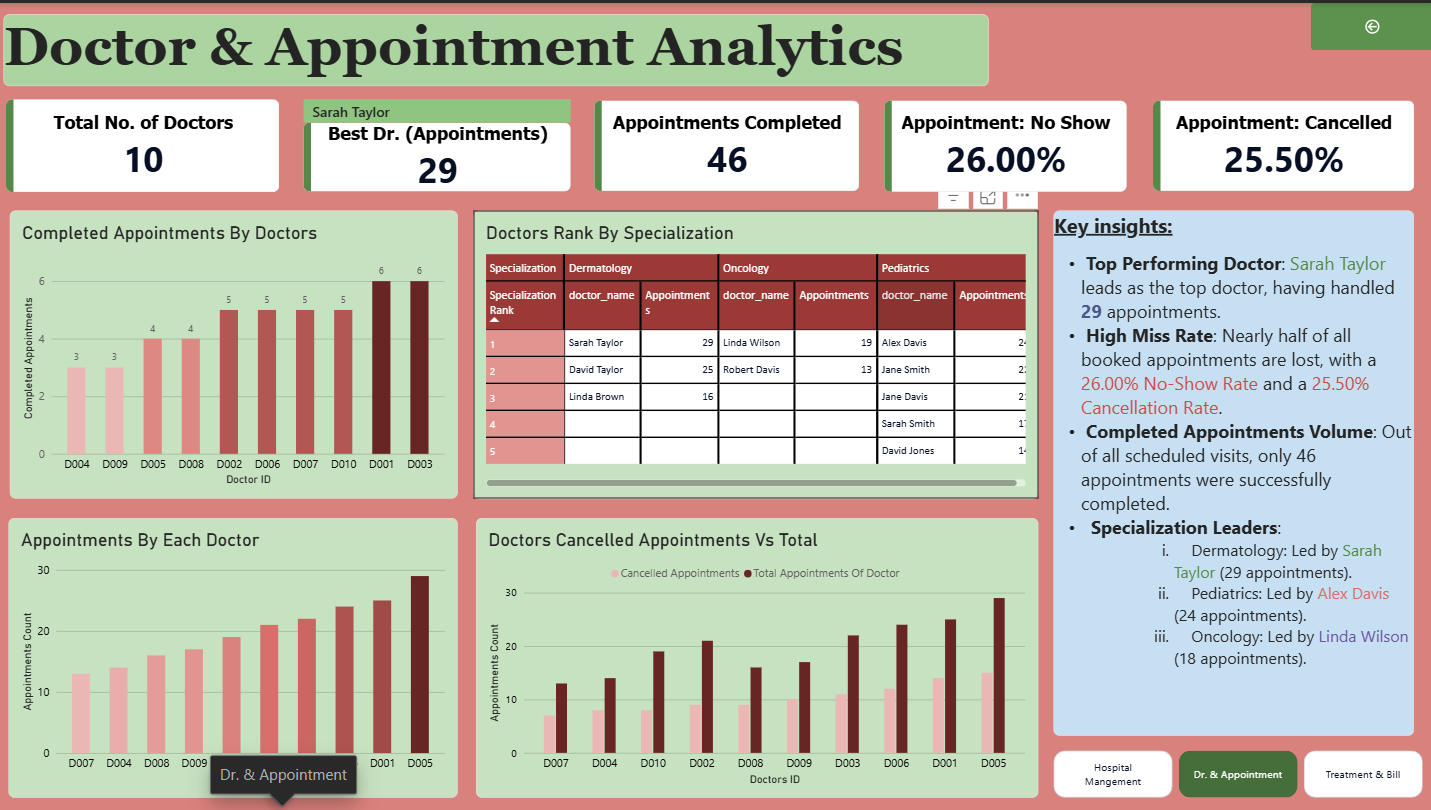

Layout of this report page (visuals, bound fields, positions):
{"tool":"powerbi","page":{"name":"Dr. & Appointment","canvas":[1920,1080],"ordinal":1},"visuals":[{"type":"textbox","box":[9.2,14.7,1316,95.7],"z":0},{"type":"group","id":"g1","title":"Group 1","box":[12.9,128.8,1498,124.3],"z":0,"group":"g2"},{"type":"cardVisual","fields":{"Data":["Count(hospital_management doctors.doctor_id)"]},"box":[12.9,128.8,365.9,124.2],"z":1000,"group":"g1"},{"type":"cardVisual","fields":{"Data":["Sum(percent_app_status.Appointment Satus%)"],"Rows":["hospital_management appointments.status"]},"box":[1510.2,130.9,383.7,121.1],"z":1000,"group":"g2"},{"type":"clusteredColumnChart","title":"Appointments By Each Doctor","fields":{"Category":["hospital_management doctors.doctor_id"],"Y":["CountNonNull(hospital_management appointments.appointment_id)"]},"box":[16.6,688.3,600,373.6],"z":1000},{"type":"cardVisual","fields":{"Data":["CountNonNull(hospital_management appointments.appointment_id)"],"Rows":["rank_doctor_specialization_wise.doctor_name"]},"box":[410.7,129.1,357.1,123.3],"z":2000,"group":"g1"},{"type":"clusteredColumnChart","title":"Completed Appointments By Doctors","fields":{"Category":["hospital_management doctors.doctor_id","hospital_management appointments.status"],"Y":["CountNonNull(hospital_management appointments.appointment_id)"]},"box":[18.4,277.9,598.2,384.7],"z":2000},{"type":"cardVisual","fields":{"Data":["CountNonNull(hospital_management appointments.appointment_id)"],"Rows":["hospital_management appointments.status"]},"box":[764.4,130.7,388.5,121.5],"z":3000,"group":"g1"},{"type":"clusteredColumnChart","title":"Doctors Cancelled Appointments Vs Total","fields":{"Category":["hospital_management doctors.doctor_id"],"Y":["Sum(cancellation_rate_each_doctor.missed_cancelled_appointments)","Sum(cancellation_rate_each_doctor.total_appointments)"]},"box":[640.5,688.3,750.9,373.6],"z":3000},{"type":"cardVisual","fields":{"Data":["Sum(percent_app_status.Appointment Satus%)"],"Rows":["hospital_management appointments.status"]},"box":[1152.4,131,358.5,122.1],"z":4000,"group":"g1"},{"type":"pivotTable","title":"Doctors  Rank By Specialization","fields":{"Columns":["rank_doctor_specialization_wise.specialization"],"Rows":["rank_doctor_specialization_wise.specialization_rank"],"Values":["Min(rank_doctor_specialization_wise.doctor_name)","Sum(rank_doctor_specialization_wise.total_appointments)"]},"box":[637.9,277.2,754.7,385.7],"z":4000},{"type":"group","id":"g2","title":"Group 2","box":[12.9,128.8,1881,124.3],"z":5000},{"type":"textbox","box":[1412.1,277.2,481.9,701.4],"z":6000},{"type":"actionButton","box":[1756.3,0,163.7,63.3],"z":6001},{"type":"pageNavigator","box":[1412.1,999.1,494.9,63.3],"z":6002}]}

Visuals, with their boxes on the page's 1920x1080 design canvas (x1, y1, x2, y2). These are canvas units, not pixel positions in the 1431x810 screenshot, which may show the page scaled, cropped or inside an application window:
textbox: bbox=[9, 15, 1325, 110]
"Group 1" group: bbox=[13, 129, 1511, 253]
cardVisual - Count(hospital_management doctors.doctor_id): bbox=[13, 129, 379, 253]
cardVisual - Sum(percent_app_status.Appointment Satus%) x hospital_management appointments.status: bbox=[1510, 131, 1894, 252]
"Appointments By Each Doctor" clusteredColumnChart: bbox=[17, 688, 617, 1062]
cardVisual - CountNonNull(hospital_management appointments.appointment_id) x rank_doctor_specialization_wise.doctor_name: bbox=[411, 129, 768, 252]
"Completed Appointments By Doctors" clusteredColumnChart: bbox=[18, 278, 617, 663]
cardVisual - CountNonNull(hospital_management appointments.appointment_id) x hospital_management appointments.status: bbox=[764, 131, 1153, 252]
"Doctors Cancelled Appointments Vs Total" clusteredColumnChart: bbox=[640, 688, 1391, 1062]
cardVisual - Sum(percent_app_status.Appointment Satus%) x hospital_management appointments.status: bbox=[1152, 131, 1511, 253]
"Doctors  Rank By Specialization" pivotTable: bbox=[638, 277, 1393, 663]
"Group 2" group: bbox=[13, 129, 1894, 253]
textbox: bbox=[1412, 277, 1894, 979]
actionButton: bbox=[1756, 0, 1920, 63]
pageNavigator: bbox=[1412, 999, 1907, 1062]
